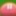pink: (0, 0, 16, 16)
